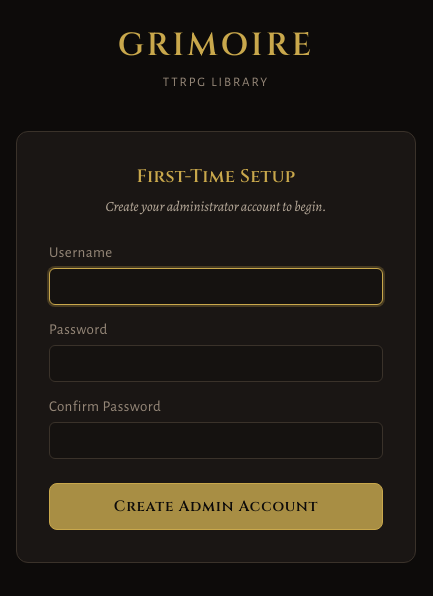
it: SetupView › shows an error when passwords do not match
In the field labelled "Username": (216, 286) [49,268,383,304], type "admin"
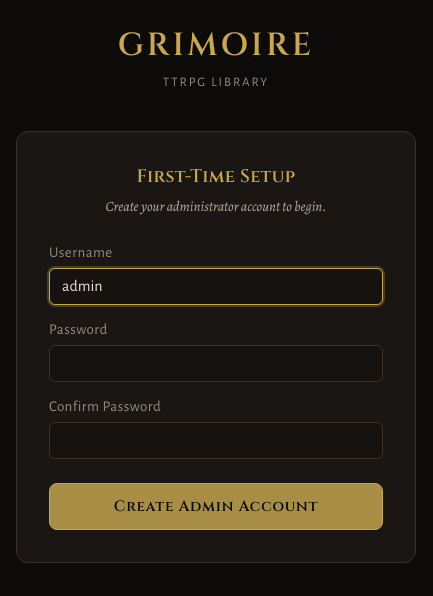
In the password field labelled "Password": (216, 363) [49,344,383,382], type "password1"
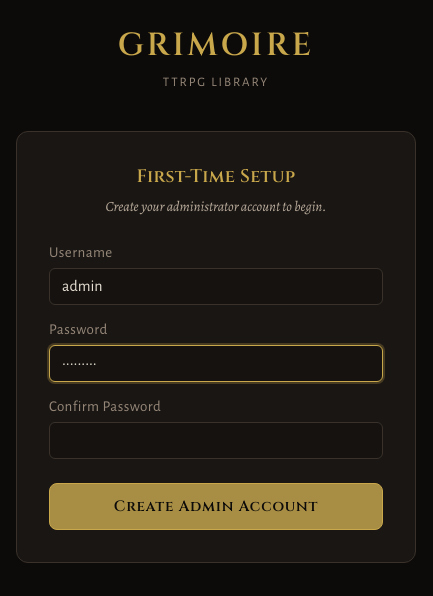
In the password field labelled "Confirm Password": (216, 440) [49,422,383,458], type "password2"
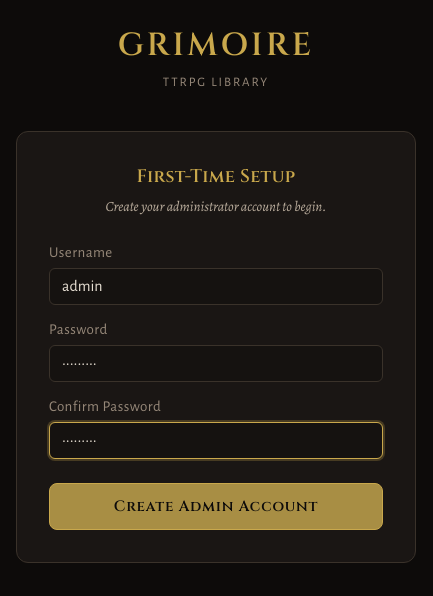
Click the button "Create Admin Account": (216, 506) [49,482,383,530]
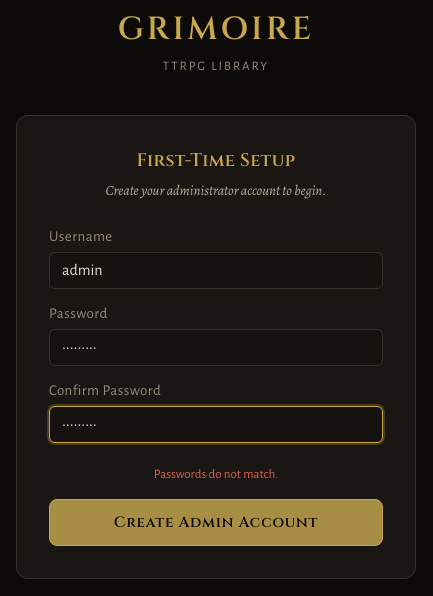
Expected: the text "Passwords do not match." is shown, [154,468,278,480]
